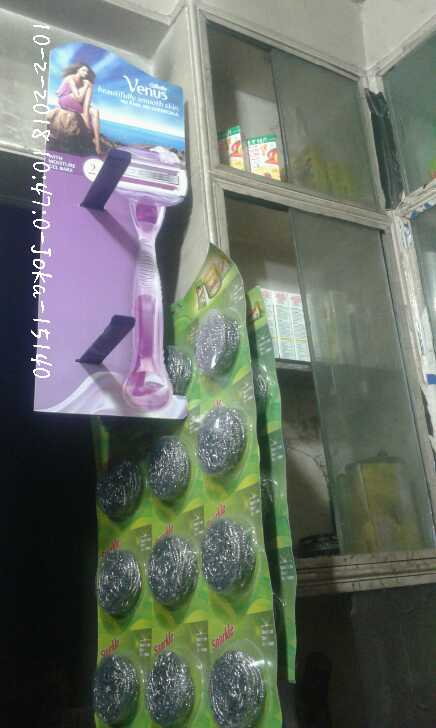reject: (60, 211, 141, 311)
